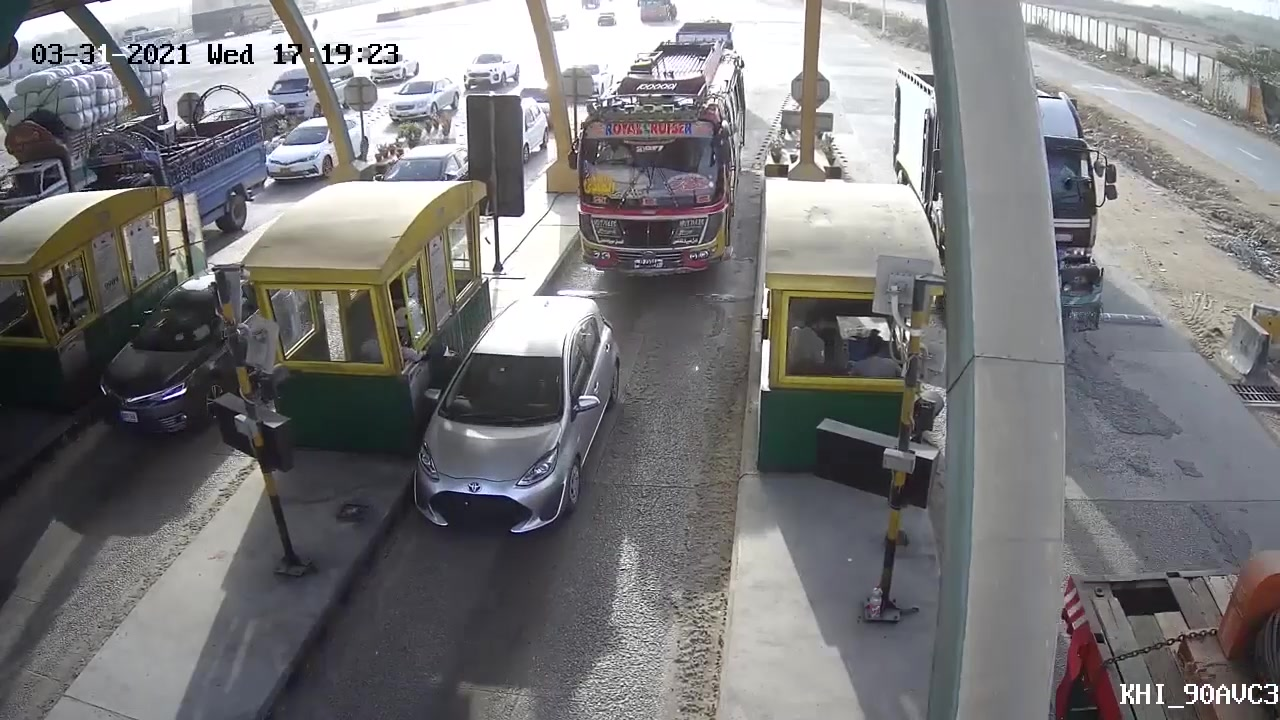F1: (400, 290, 627, 548)
F4: (563, 26, 750, 285)
